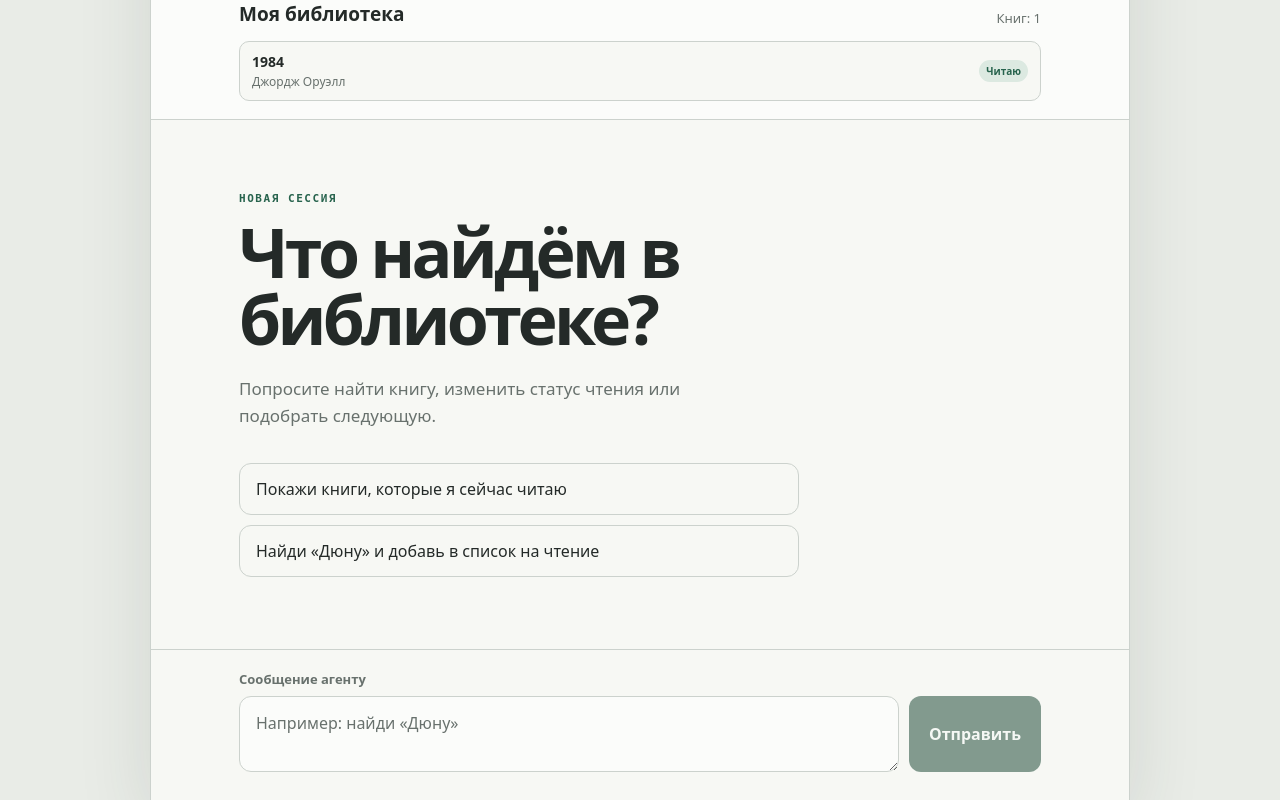
Library panel and MVP scenarios › passes the status-change MVP and shows the backend value
The width and height of the screenshot is (1280, 800).
(page scrolled)
Type "Я дочитал 1984. Отметь её как прочитанную" into the text box labelled "Сообщение агенту" at x=569, y=734, box [239,696,899,772]
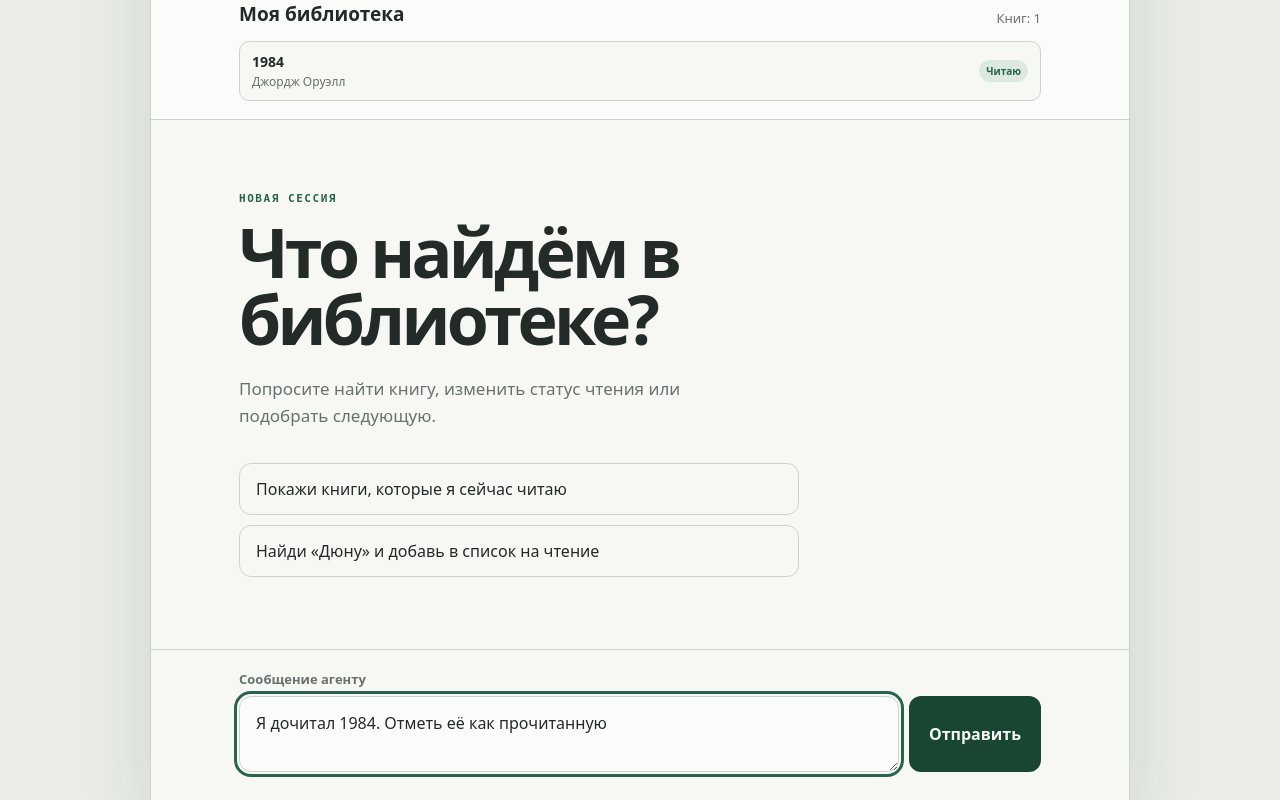
Click the button "Отправить" at x=975, y=734, box [909,696,1041,772]
(page scrolled)
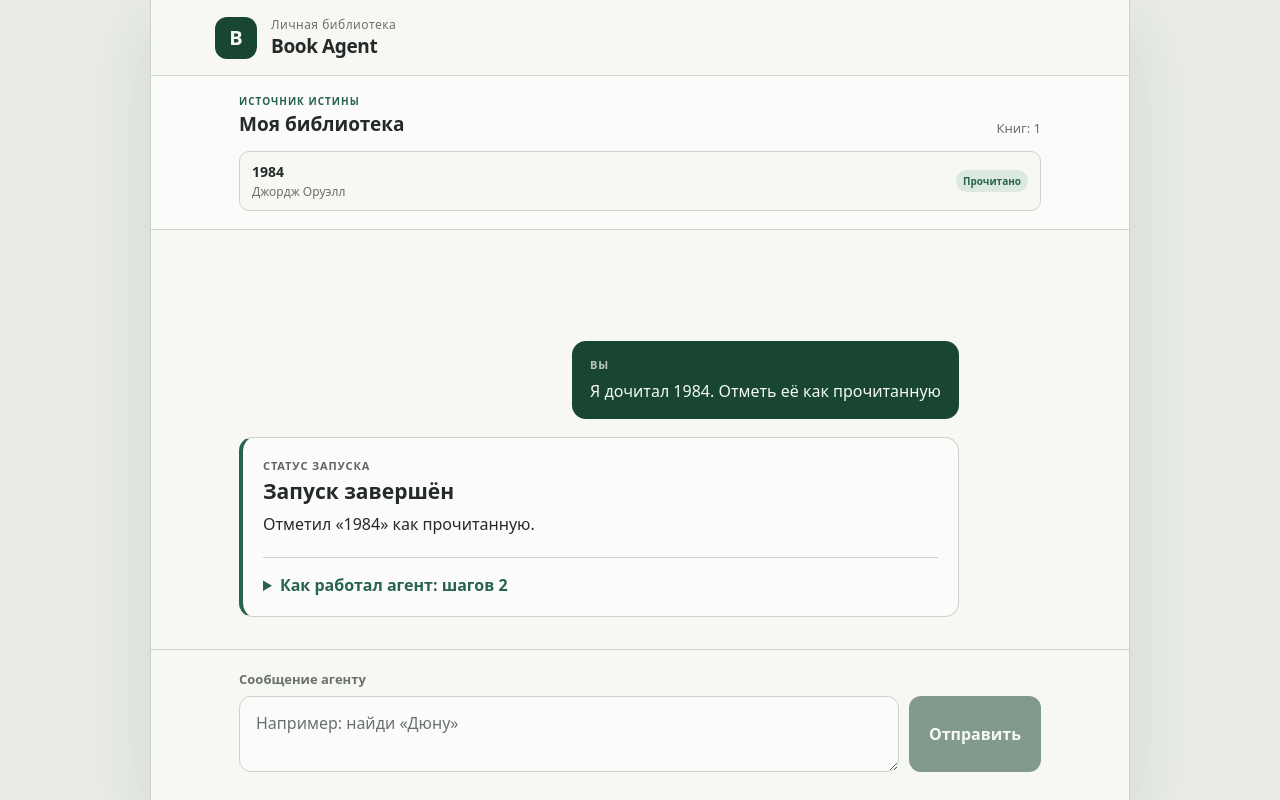
Expected: the text "Отметил «1984» как прочитанную." is shown, [263,513,535,535]
Expected: the text "Прочитано" is shown, [956,170,1028,192]
Expected: the text "Читаю" is gone
